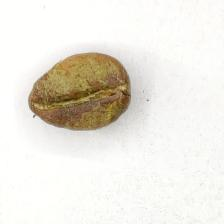NG: (33, 63, 122, 120)
